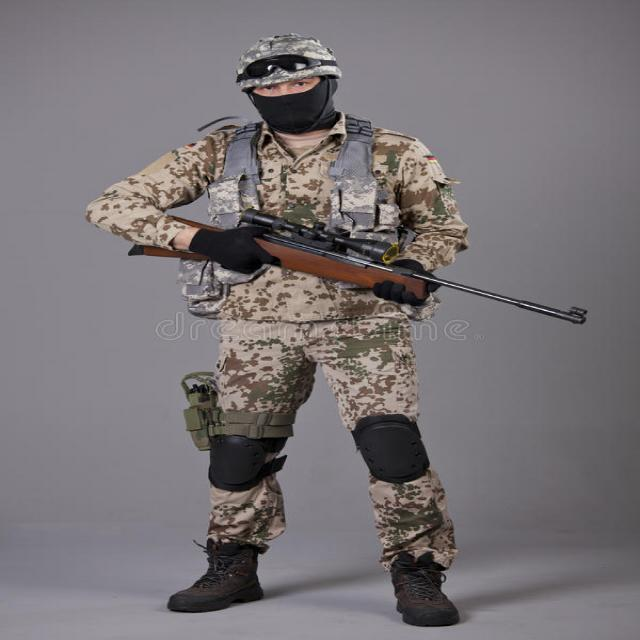rifle: (134, 206, 612, 338)
